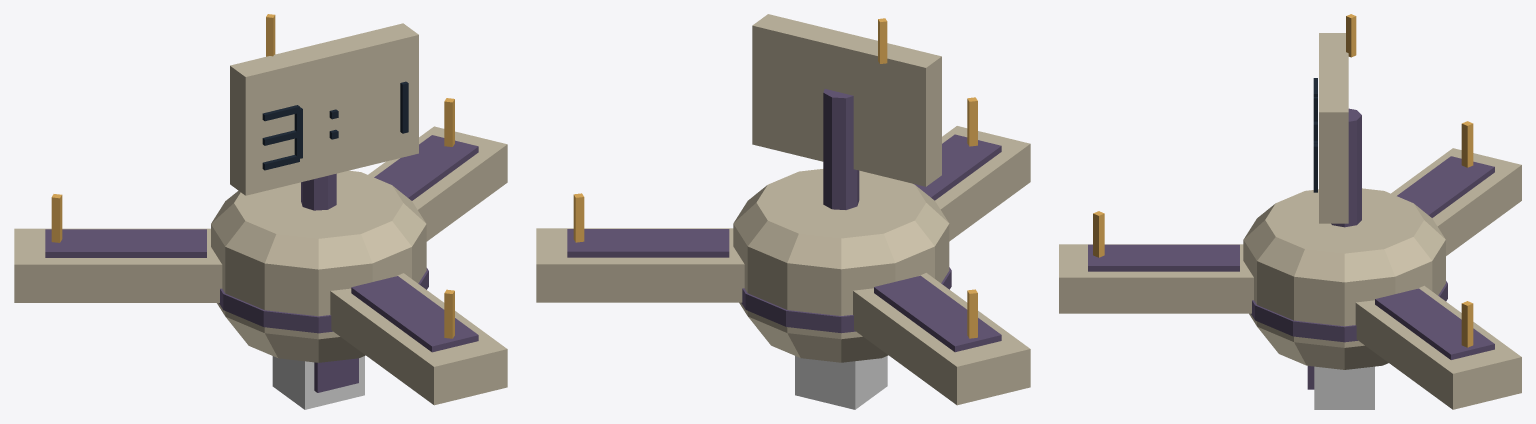
Rendered from space_scene_dock_accord.glb.
3 renders of one model, left to right at view 1: azimuth 30°, elevation 25°; view 2: azimuth 150°, elevation 25°; view 3: azimuth 270°, elevation 25°, orthographic. The views are drawn at different scales.
Parts seen in each view (by area): view 1: FixedDetails, WoodBody, BrassTrim; view 2: FixedDetails, WoodBody, BrassTrim; view 3: FixedDetails, WoodBody, BrassTrim.
Part boxes in pixels (x1,y1,x2,y2): FixedDetails: [14, 23, 507, 405]; WoodBody: [272, 356, 364, 409]; BrassTrim: [51, 14, 454, 338]; FixedDetails: [536, 14, 1030, 405]; WoodBody: [795, 356, 887, 409]; BrassTrim: [573, 18, 977, 338]; FixedDetails: [1059, 33, 1521, 409]; WoodBody: [1314, 366, 1374, 409]; BrassTrim: [1093, 14, 1473, 347].
Bounding box in the file's own units: 0.7392 × 0.549 × 0.6401.
